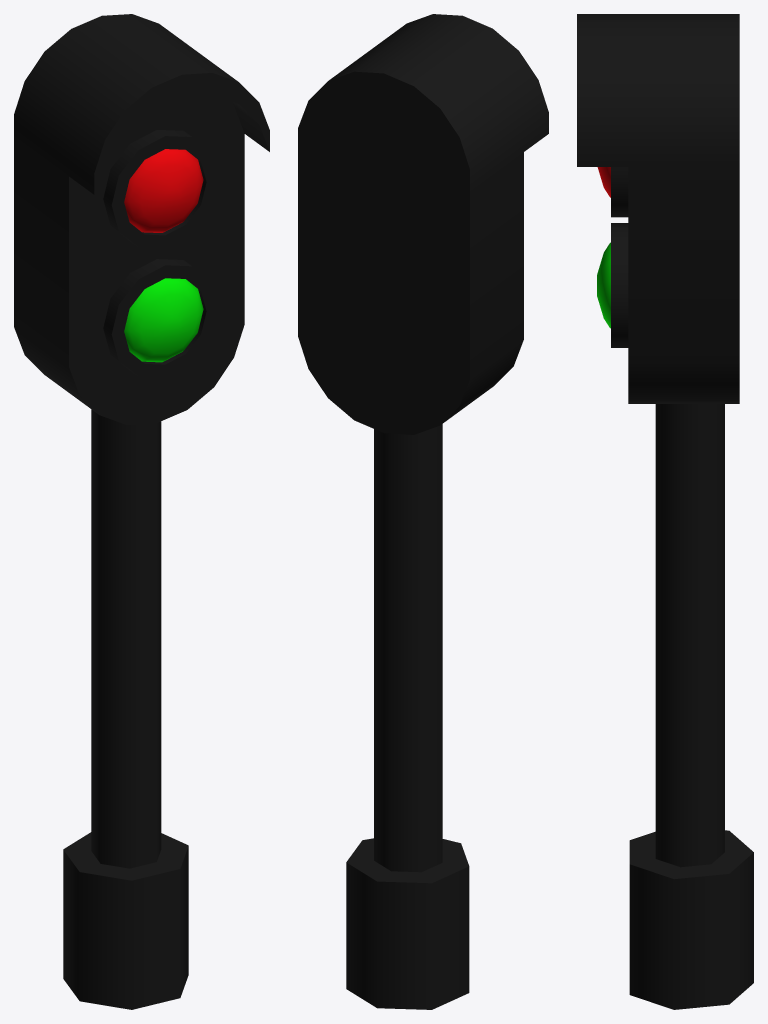
Rendered from lights.fbx.
The picture shows the model from 3 angles, left to right: view 1: azimuth 30°, elevation 25°; view 2: azimuth 150°, elevation 25°; view 3: azimuth 270°, elevation 25°; orthographic projection. The views are drawn at different scales.
Visible parts, largest first — view 1: Circle.002, Circle.008; view 2: Circle.002; view 3: Circle.002, Circle.008.
Boxes of the visible parts, <box> form: Circle.002: <box>14,14,269,1009</box>; Circle.008: <box>124,149,203,362</box>; Circle.002: <box>298,14,548,1009</box>; Circle.002: <box>577,14,753,1009</box>; Circle.008: <box>597,167,610,328</box>.
Size of the model in its own units: 0.4263 by 2.2 by 0.3679.
